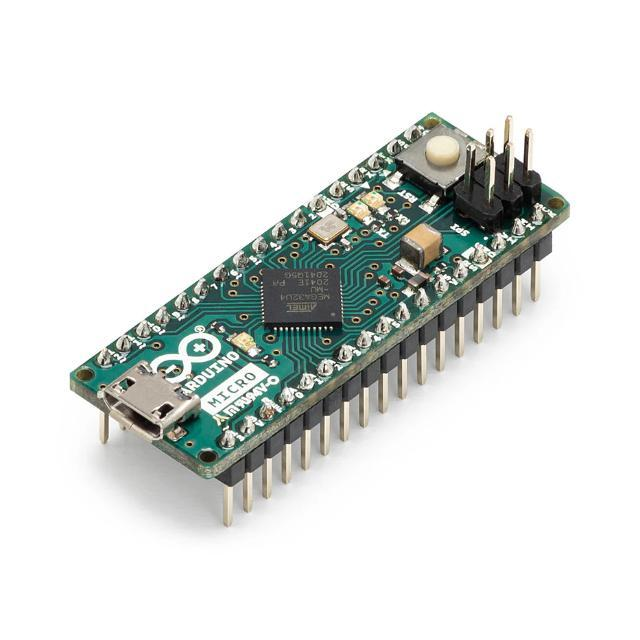Arduino-Micro: (71, 115, 570, 524)
